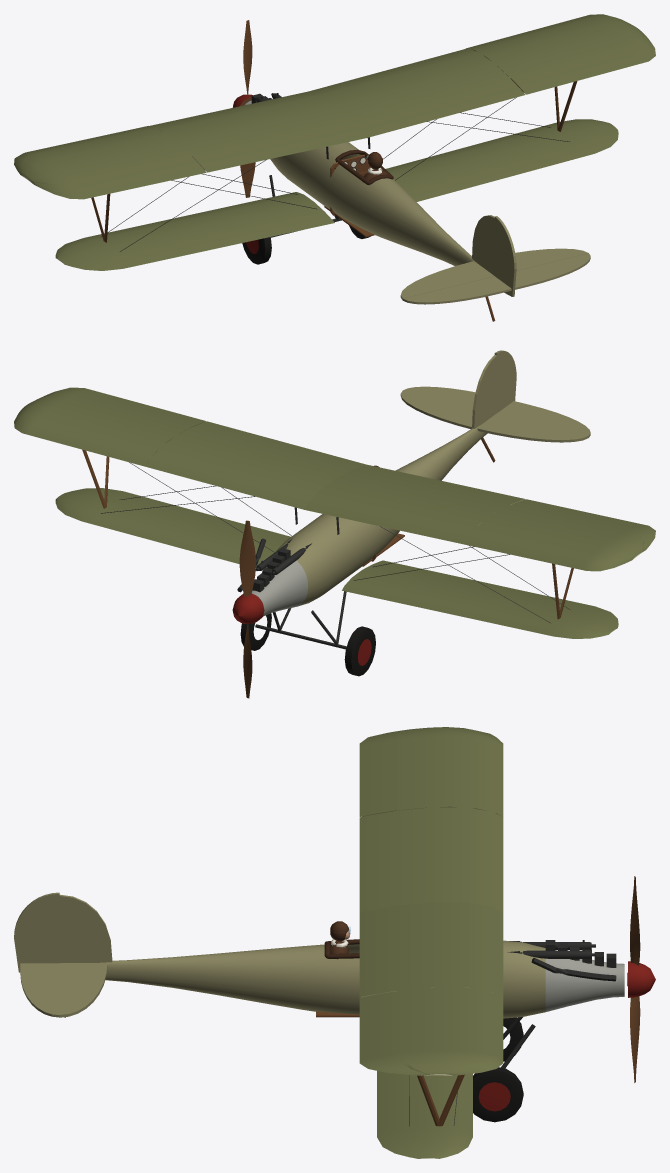
Rendered from pfalz_diiia.glb.
3 renders of one model, top to bottom at view 1: azimuth 30°, elevation 25°; view 2: azimuth 150°, elevation 25°; view 3: azimuth 270°, elevation 25°, orthographic. The views are drawn at different scales.
Parts seen in each view (by area): view 1: Wing_Upper_R, Wing_Upper_L, Wing_Lower_L, Fuselage, Wing_Lower_R, Aileron_L, Aileron_R, Elevator, Stabilizer_L, Rudder, Fin, Wires (+6 smaller); view 2: Wing_Upper_R, Wing_Upper_L, Wing_Lower_L, Fuselage, Wing_Lower_R, PropBlades, Elevator, Stabilizer_L, Wheels, Aileron_L, Aileron_R, Stabilizer_R (+7 smaller); view 3: Wing_Upper_L, Wing_Upper_R, Fuselage, Wing_Lower_R, Aileron_R, Aileron_L, Fin, Rudder, Wheels, Stabilizer_R, PropBlades, Elevator (+3 smaller).
Boxes of the visible parts, left/top/right/bottom form: Wing_Upper_R: left=309, top=14, right=644, bottom=137; Wing_Upper_L: left=14, top=91, right=365, bottom=183; Wing_Lower_L: left=55, top=192, right=334, bottom=270; Fuselage: left=245, top=100, right=477, bottom=265; Wing_Lower_R: left=386, top=119, right=618, bottom=201; Aileron_L: left=31, top=155, right=206, bottom=199; Aileron_R: left=510, top=33, right=655, bottom=94; Elevator: left=403, top=253, right=590, bottom=304; Stabilizer_L: left=400, top=261, right=494, bottom=300; Rudder: left=494, top=216, right=516, bottom=296; Fin: left=472, top=215, right=494, bottom=275; Wires: left=101, top=97, right=569, bottom=251; Wing_Upper_R: left=14, top=393, right=365, bottom=509; Wing_Upper_L: left=305, top=464, right=644, bottom=571; Wing_Lower_L: left=342, top=560, right=618, bottom=638; Fuselage: left=252, top=426, right=487, bottom=616; Wing_Lower_R: left=55, top=488, right=290, bottom=570; PropBlades: left=232, top=520, right=264, bottom=698; Elevator: left=403, top=386, right=590, bottom=437; Stabilizer_L: left=477, top=413, right=588, bottom=442; Wheels: left=240, top=613, right=375, bottom=676; Aileron_L: left=510, top=499, right=655, bottom=552; Aileron_R: left=39, top=387, right=206, bottom=427; Stabilizer_R: left=400, top=390, right=472, bottom=428; Wing_Upper_L: left=359, top=727, right=503, bottom=912; Wing_Upper_R: left=359, top=902, right=503, bottom=1075; Fuselage: left=100, top=940, right=624, bottom=1018; Wing_Lower_R: left=377, top=1071, right=472, bottom=1158; Aileron_R: left=359, top=991, right=429, bottom=1075; Aileron_L: left=359, top=729, right=409, bottom=816; Fin: left=59, top=894, right=112, bottom=962; Rudder: left=14, top=892, right=59, bottom=972; Wheels: left=473, top=1017, right=523, bottom=1122; Stabilizer_R: left=59, top=963, right=107, bottom=1017; PropBlades: left=627, top=876, right=655, bottom=1082; Elevator: left=20, top=963, right=59, bottom=1017.
Size of the model in its own units: 9.4 by 2.71 by 7.37.
